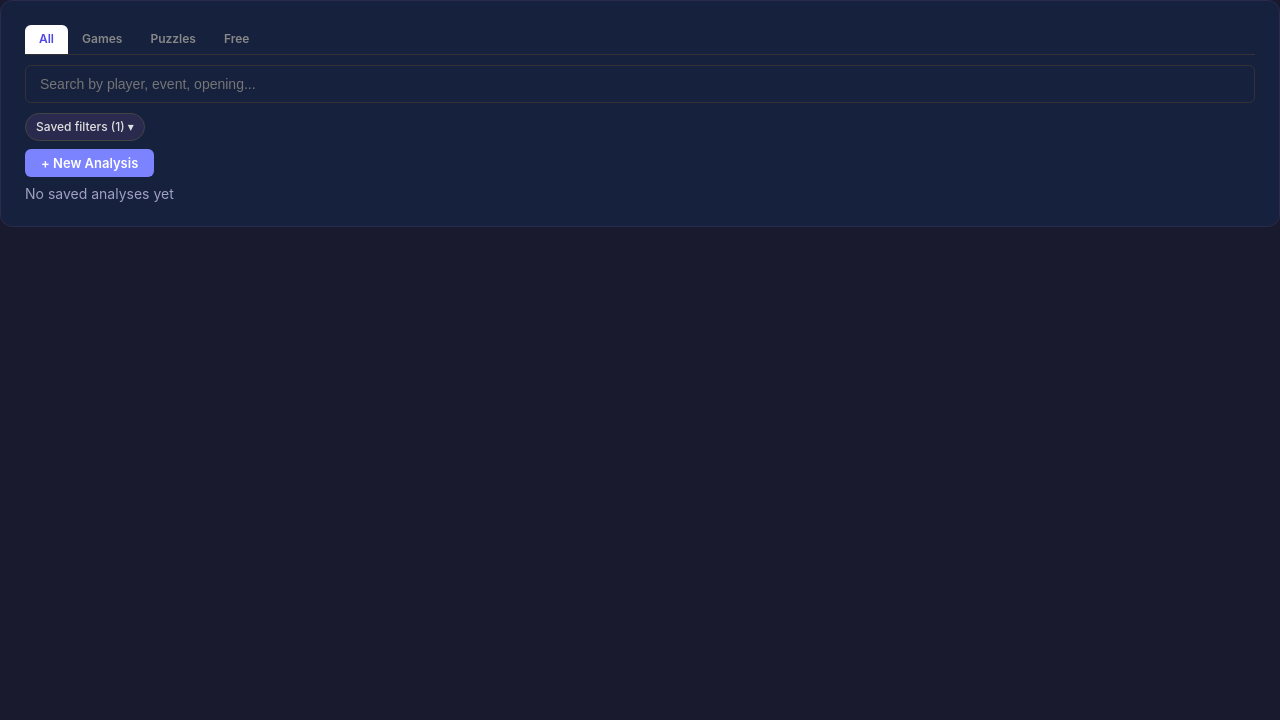
it: WorkshopAnalysisList — KS-2933 (B3) › apply пресета с category=null ставит таб «All» и не пишет category в URL
Click the button with test id "saved-filters-toggle" at (85, 127), box x1=25 y1=113 x2=145 y2=141
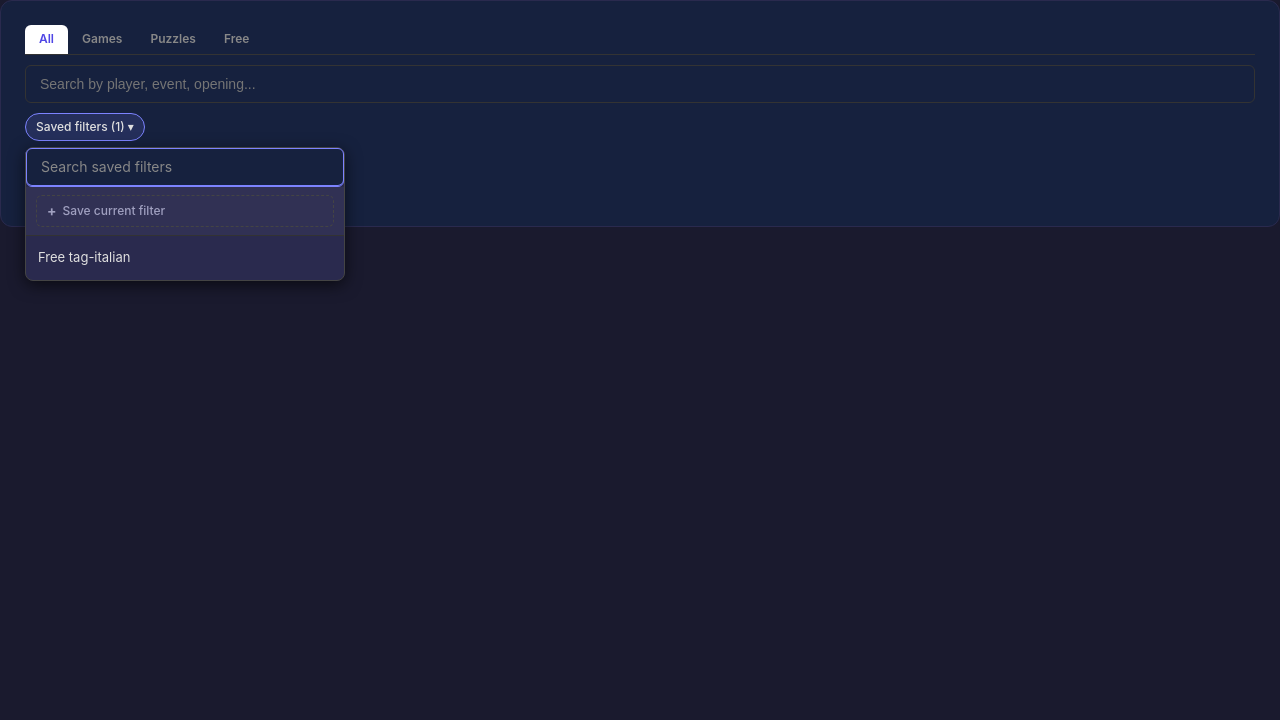
Click the menu item with test id "saved-filters-apply-p2" at (84, 257), box x1=26 y1=240 x2=316 y2=276
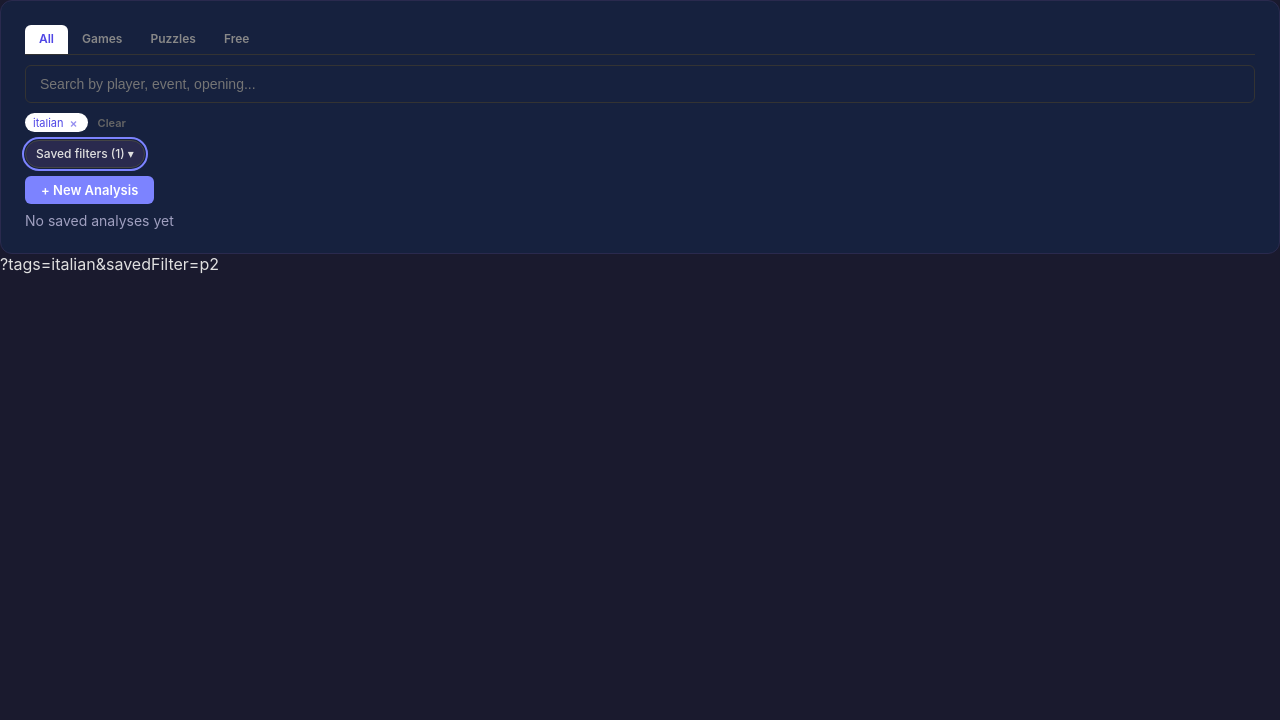
expect the button with class "workshop-category-tab" reads "All": met, box x1=25 y1=25 x2=68 y2=54
expect the text with test id "location-probe" shows "tags=italian": met, box x1=0 y1=254 x2=219 y2=274
